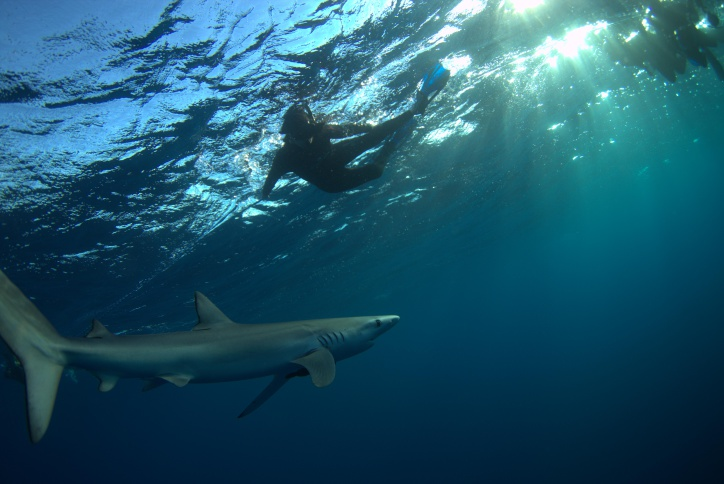Azul: (1, 272, 411, 450)
